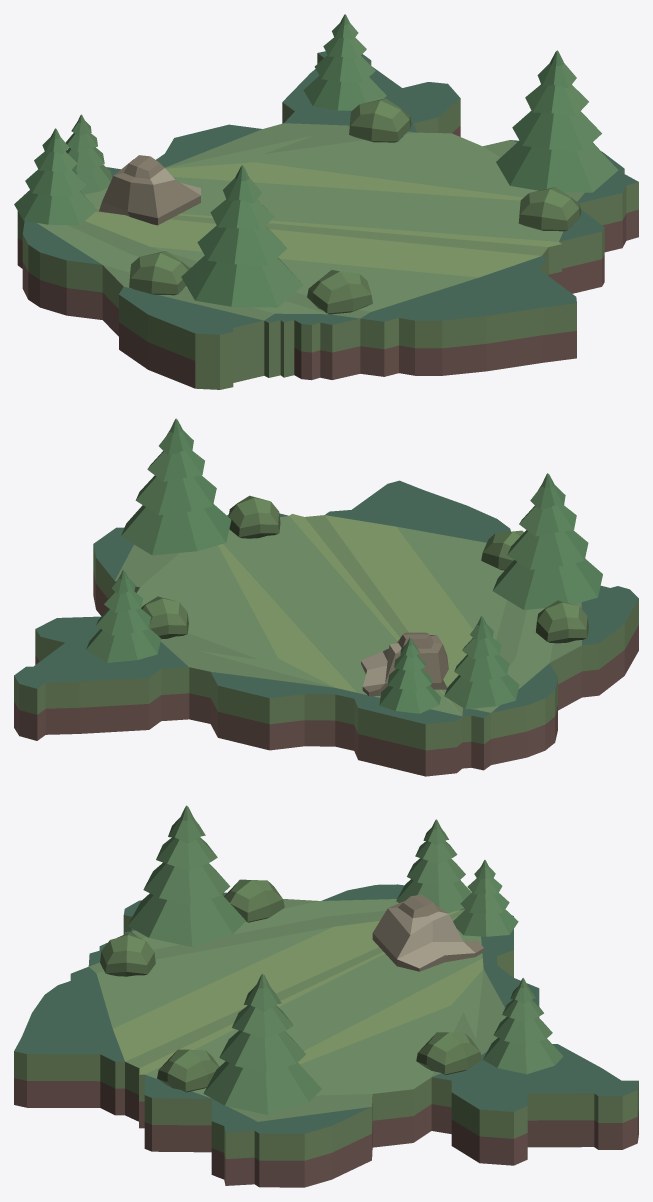
The model's file is abiiskii.gltf.
The picture shows the model from 3 angles, top to bottom: view 1: azimuth 30°, elevation 25°; view 2: azimuth 150°, elevation 25°; view 3: azimuth 270°, elevation 25°; orthographic projection. The views are drawn at different scales.
Visible parts, largest first — view 1: абыйский; view 2: абыйский; view 3: абыйский.
Part boxes in pixels (bbox=[...]): абыйский: bbox=[14, 14, 638, 389]; абыйский: bbox=[14, 418, 638, 776]; абыйский: bbox=[14, 805, 638, 1187].
Bounding box in the file's own units: 1.56 × 0.5325 × 1.65.
